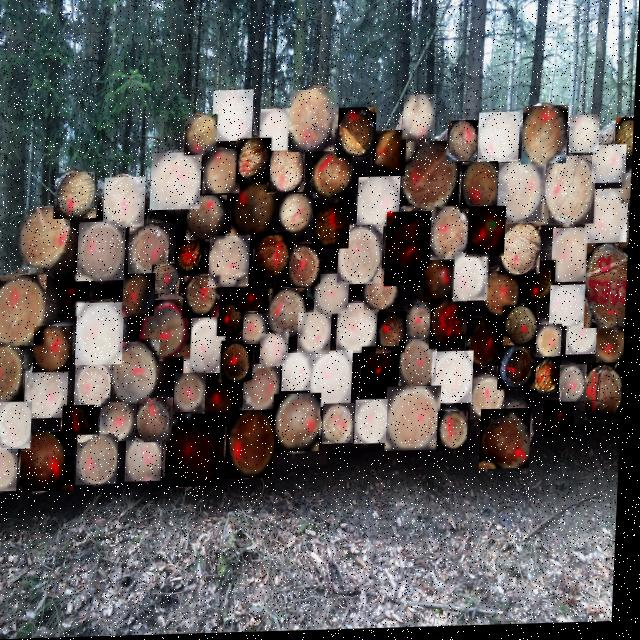wood-log: (169, 414, 229, 489), (402, 143, 463, 213), (387, 214, 439, 289), (544, 159, 598, 231), (587, 246, 631, 332), (16, 208, 73, 273), (389, 389, 445, 454), (0, 275, 49, 347), (230, 411, 280, 480), (24, 432, 80, 492), (142, 301, 196, 362), (483, 412, 535, 473), (290, 91, 340, 154), (78, 303, 127, 366), (499, 165, 548, 227), (114, 342, 163, 403), (152, 153, 203, 211), (79, 222, 128, 282), (276, 395, 325, 454), (523, 109, 570, 168), (340, 227, 386, 287), (232, 182, 279, 238), (187, 319, 230, 376), (313, 352, 356, 409), (554, 231, 598, 286), (587, 192, 631, 247), (434, 354, 477, 407), (364, 348, 404, 404), (502, 226, 544, 279), (432, 209, 473, 263), (27, 371, 72, 420), (589, 366, 627, 424), (359, 178, 402, 229), (339, 305, 382, 356), (479, 115, 522, 166), (105, 177, 148, 228), (80, 435, 123, 486), (213, 91, 255, 143), (130, 224, 172, 275), (211, 237, 252, 289), (55, 173, 100, 220), (268, 290, 310, 339), (338, 110, 378, 160), (462, 164, 500, 215), (470, 209, 508, 260), (36, 326, 77, 373), (314, 151, 353, 200), (469, 321, 508, 370), (432, 302, 470, 352), (401, 341, 441, 388), (486, 274, 526, 321), (188, 196, 229, 241), (256, 234, 295, 281), (314, 205, 353, 251), (246, 365, 284, 412), (269, 150, 307, 197), (0, 402, 36, 451), (456, 255, 492, 304), (501, 348, 540, 393), (204, 150, 243, 195), (0, 342, 28, 404), (129, 438, 167, 483), (103, 398, 141, 442), (373, 132, 408, 179), (78, 364, 115, 408), (423, 261, 460, 305), (140, 399, 177, 443), (260, 110, 297, 153), (552, 288, 589, 330), (186, 277, 223, 319), (238, 140, 273, 184), (506, 308, 543, 349), (474, 380, 509, 423), (300, 314, 335, 357), (209, 379, 244, 422), (358, 402, 392, 446), (404, 97, 437, 142), (291, 245, 324, 289), (317, 276, 353, 316), (238, 273, 274, 313), (367, 271, 402, 312), (280, 196, 315, 237), (524, 264, 558, 306), (223, 342, 257, 384), (185, 116, 219, 157), (125, 276, 158, 318), (62, 275, 94, 318), (593, 148, 628, 187), (326, 406, 359, 447), (177, 374, 210, 414), (379, 314, 410, 356), (448, 123, 479, 164), (600, 323, 628, 367), (546, 403, 578, 441), (441, 414, 472, 453), (570, 118, 601, 157), (569, 320, 600, 358), (285, 354, 315, 393), (66, 405, 99, 440), (177, 239, 207, 276), (410, 306, 440, 343), (563, 368, 592, 406), (537, 360, 566, 397), (263, 335, 292, 369), (154, 265, 183, 298), (0, 449, 22, 492), (221, 304, 248, 338), (539, 328, 565, 360), (246, 316, 272, 346), (616, 121, 635, 159), (624, 177, 633, 207)
